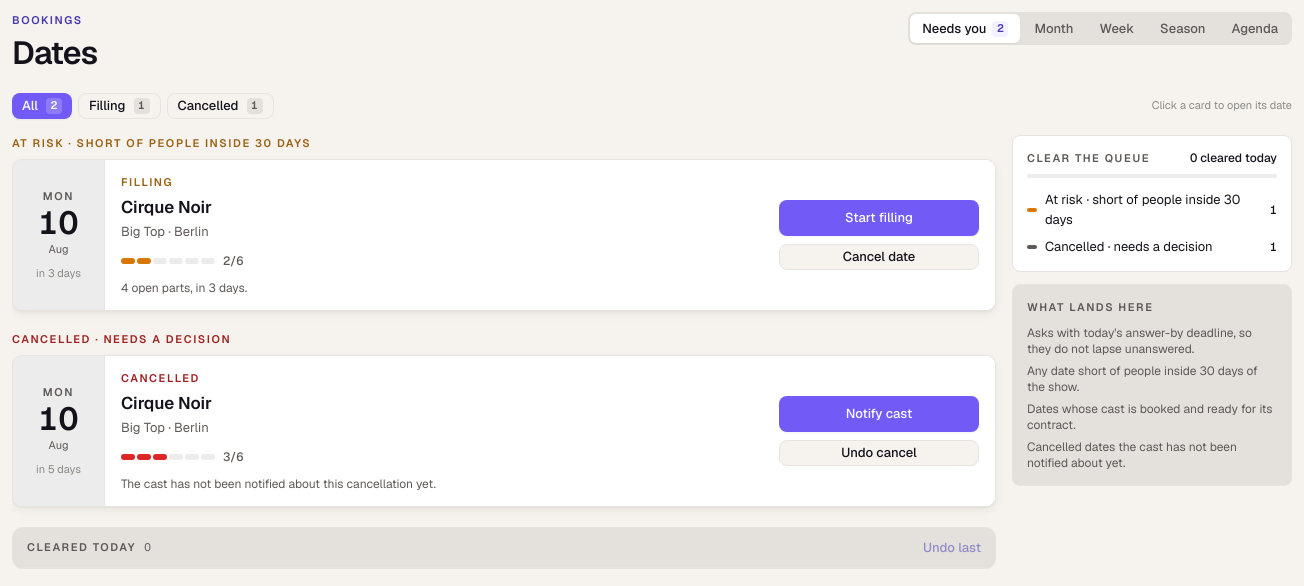
Test: CalendarSurface — Needs-you scope chips + toolbar key hint › resets the scope filter to "All" when the lens changes away from Needs-you and back
The image size is (1304, 586).
Later steps or results of the test are not shown.
Click the button with test id "scope-chip-cancelled": x=220, y=106 [166,92,274,118]
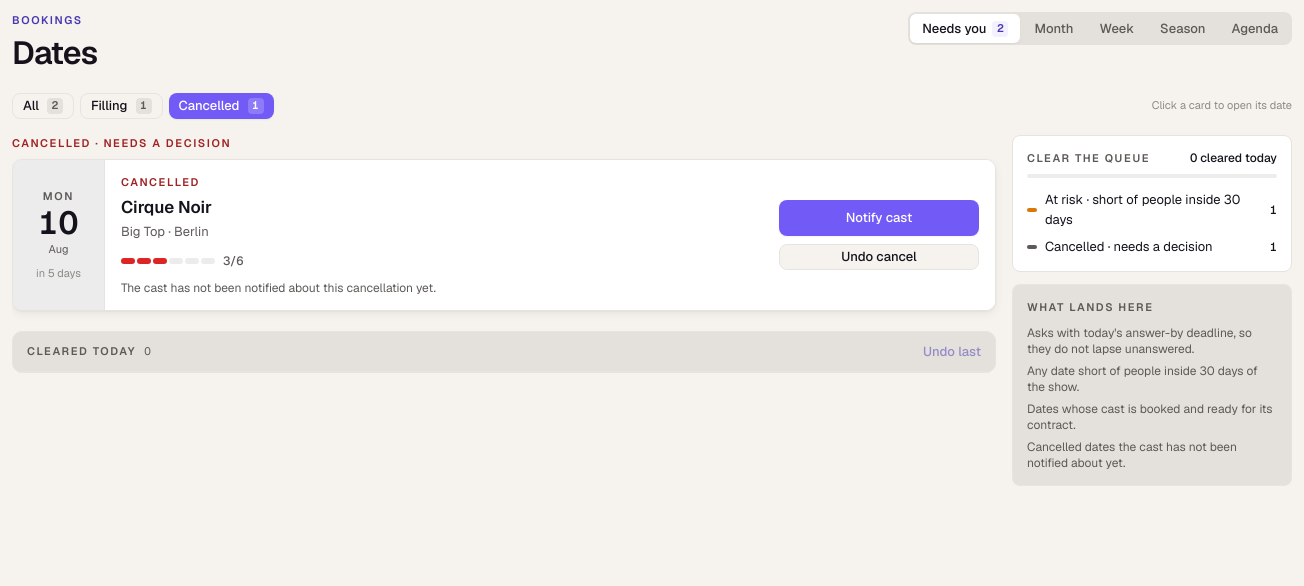
Expected: the element with test id "needs-you-group-at-risk" is gone
